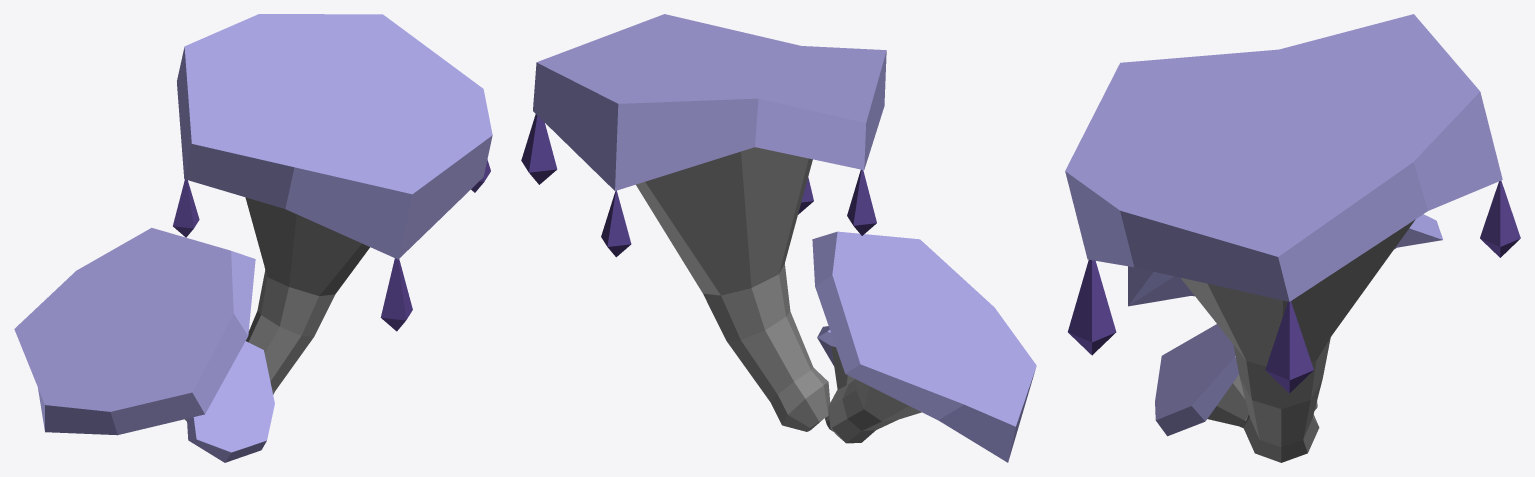
Rendered from healing.fbx.
The picture shows the model from 3 angles, left to right: view 1: azimuth 30°, elevation 25°; view 2: azimuth 150°, elevation 25°; view 3: azimuth 270°, elevation 25°; orthographic projection. The views are drawn at different scales.
Parts seen in each view (by area): view 1: mushroom3, mushroom1, mushroom3.001, crystals; view 2: mushroom3, mushroom1, crystals, mushroom3.001; view 3: mushroom3, mushroom3.001, crystals, mushroom1.
Part boxes in pixels (<box>): mushroom3: <box>177,14,492,394</box>; mushroom1: <box>14,227,255,435</box>; mushroom3.001: <box>187,341,274,462</box>; crystals: <box>173,159,490,331</box>; mushroom3: <box>533,14,886,431</box>; mushroom1: <box>812,231,1036,462</box>; crystals: <box>521,114,876,257</box>; mushroom3.001: <box>817,326,854,431</box>; mushroom3: <box>1065,14,1502,462</box>; mushroom3.001: <box>1155,324,1248,436</box>; crystals: <box>1068,181,1520,393</box>; mushroom1: <box>1128,214,1442,410</box>.
Bounding box in the file's own units: 57.14 × 41.13 × 38.81.
